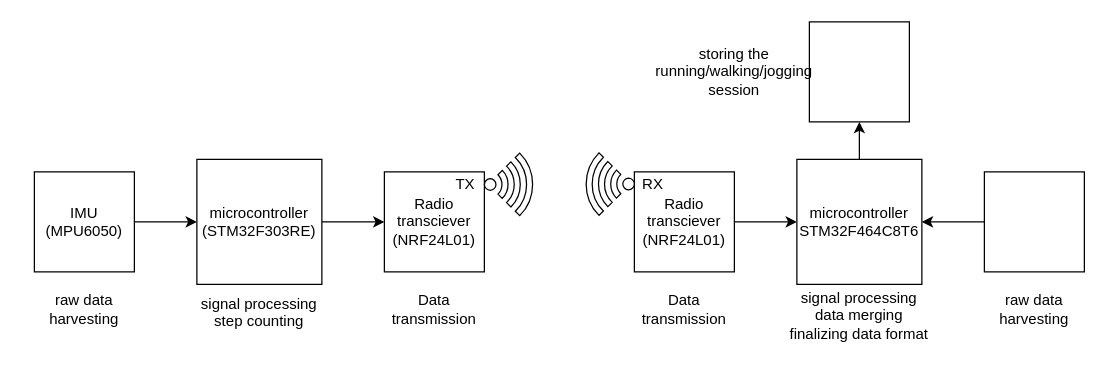
Image size: 1118x370. Some labels were removed from this diagram. Here are the shapes that lost their labels. From the top down, the centre of each, then its label:
the point at 858,71: SD card module
the point at 1033,221: Heart Rate module (MAX30102)
